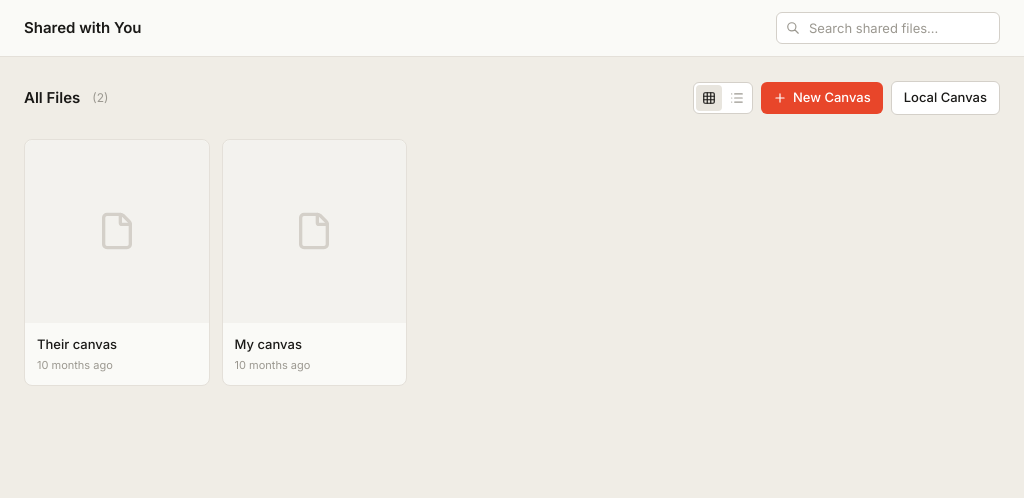
Test: SharedFiles — empty state › shows the empty state when a search matches nothing
The image size is (1024, 498).
Type "nothing" into the field with placeholder "Search shared files...". click: (888, 28)
box: [776,12,1000,44]
Wait 250 ms
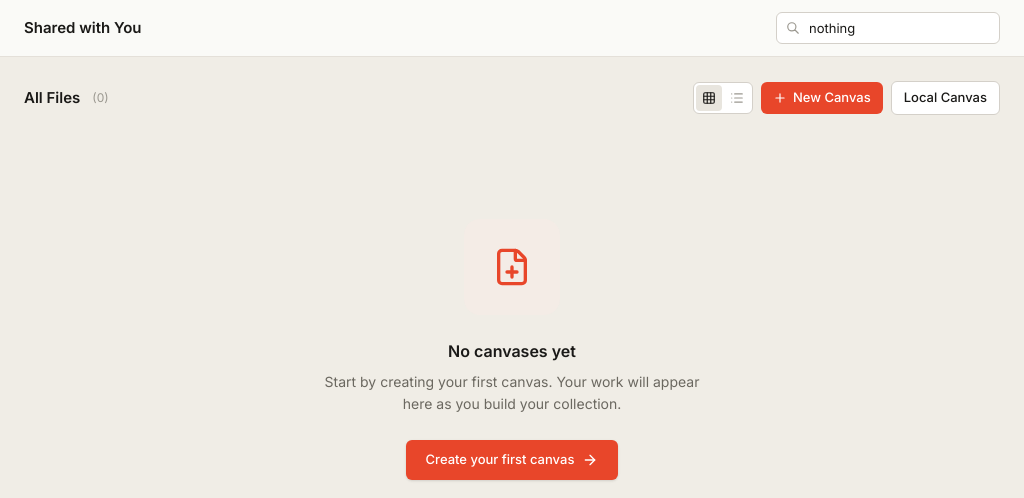
Expected: the heading "No canvases yet" is shown, [448,338,576,362]
Expected: no links are shown
